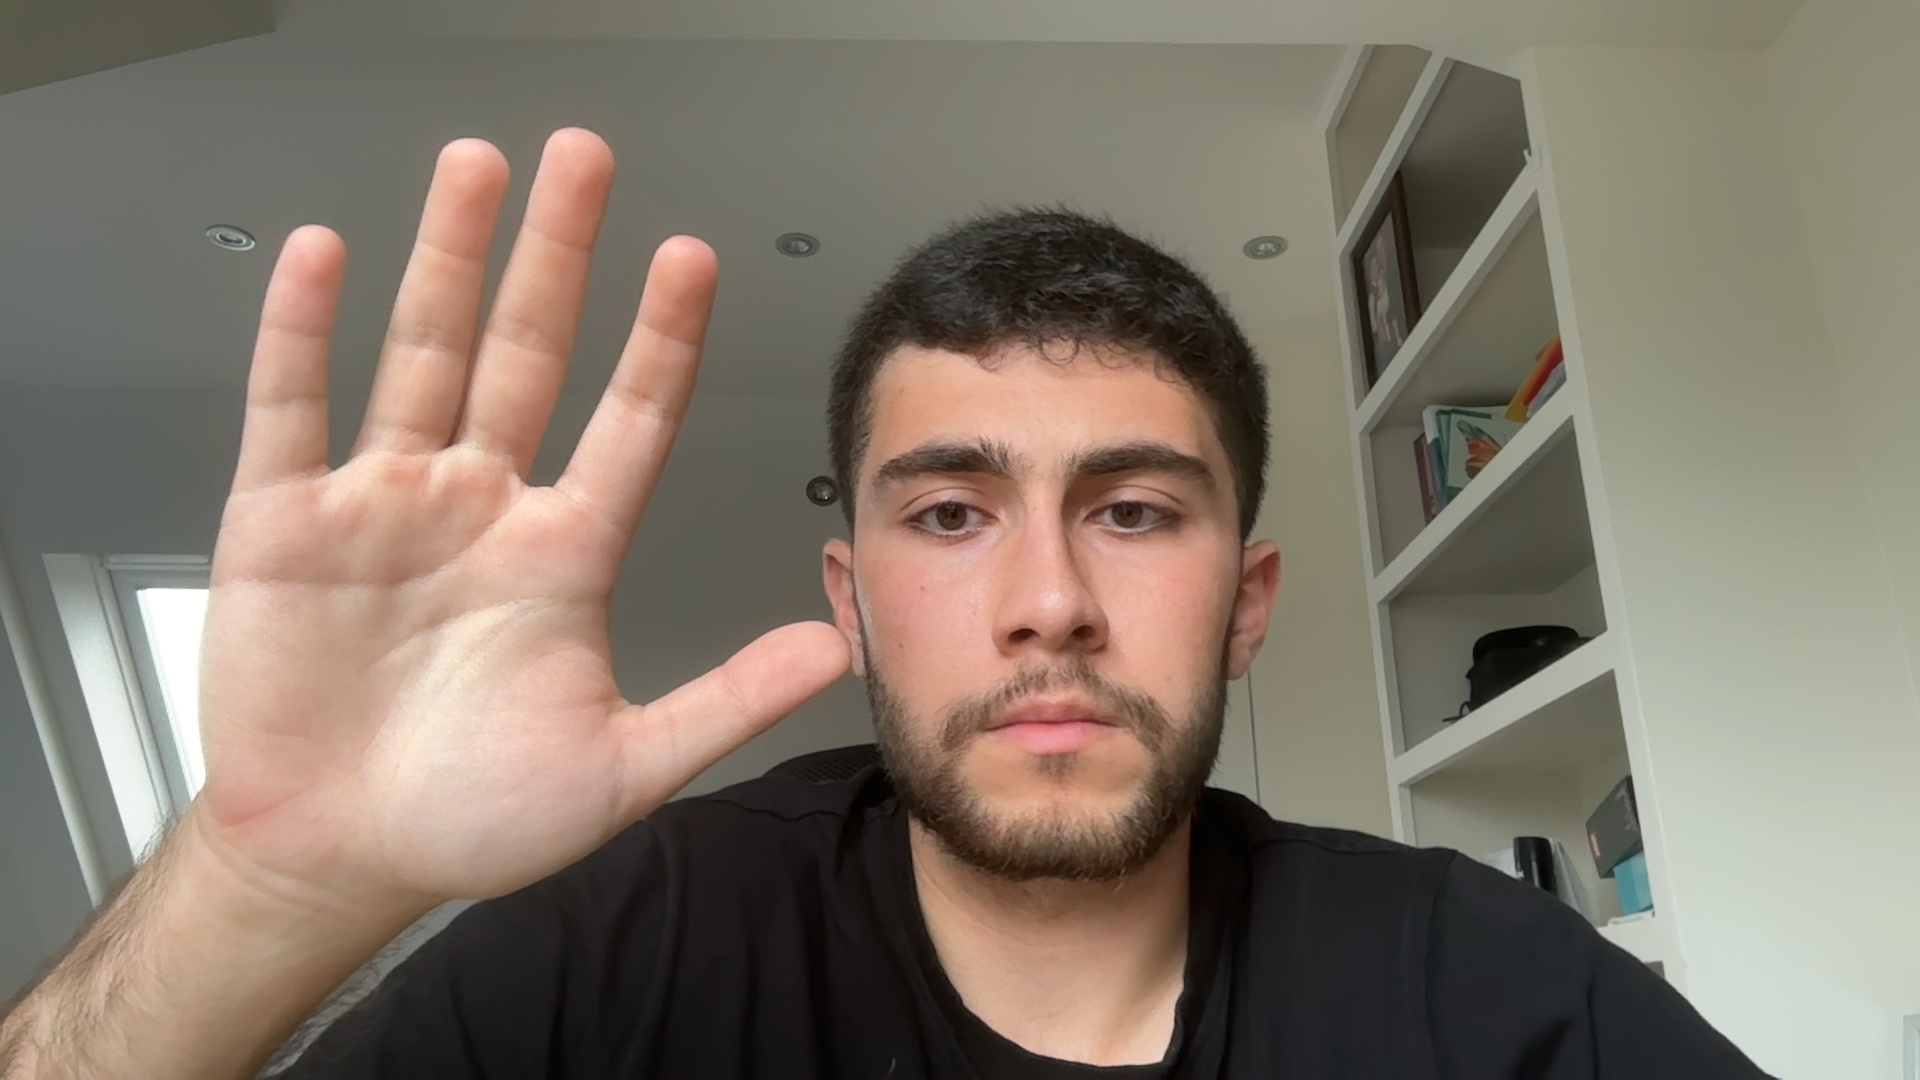Hello: (133, 105, 853, 957)
